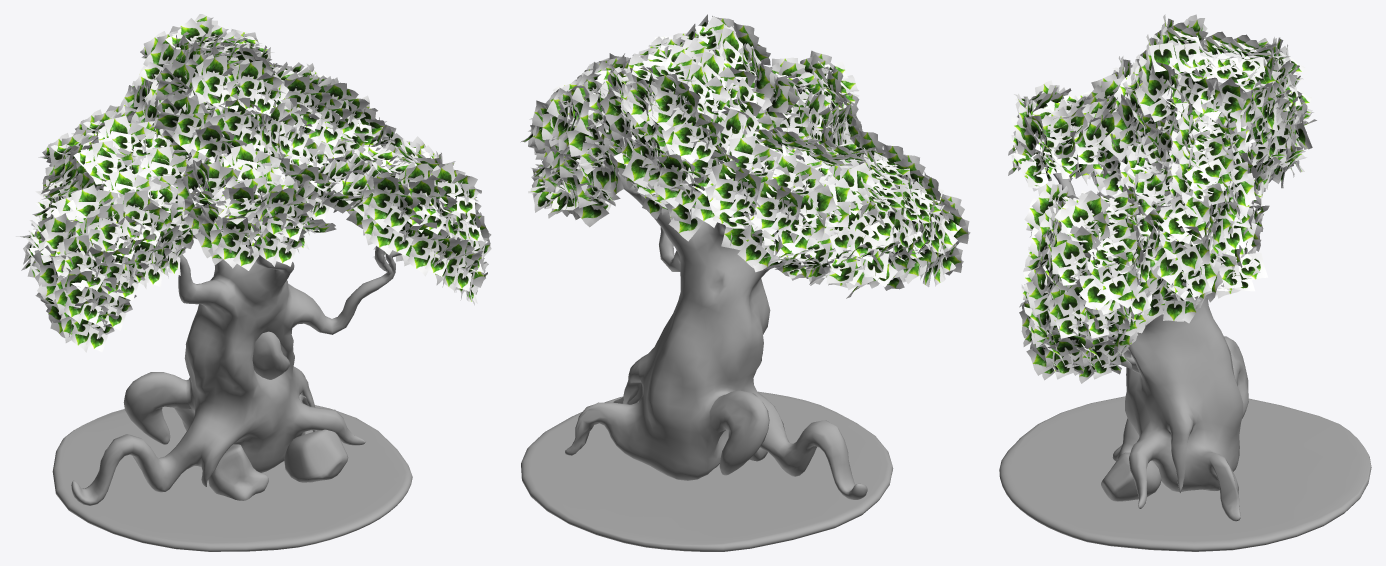
Rendered from TreeGroup_Low.fbx.
3 views of the same model, side by side, from view 1: azimuth 30°, elevation 25°; view 2: azimuth 150°, elevation 25°; view 3: azimuth 270°, elevation 25° (orthographic). The views are drawn at different scales.
Visible parts, largest first — view 1: Tree_Low1, Base_Low1, Rocks_Low3; view 2: Tree_Low1, Base_Low1, Leaf1206, Leaf1701; view 3: Base_Low1, Tree_Low1, Rocks_Low3, Leaf1133, Leaf804, Leaf801, Leaf1630, Leaf1446, Leaf2079, Leaf1486, Leaf1405, Leaf1119 (+1 smaller).
Boxes of the visible parts, <box> form: Tree_Low1: <box>71,177,401,505</box>; Base_Low1: <box>52,405,412,551</box>; Rocks_Low3: <box>208,331,348,500</box>; Tree_Low1: <box>565,172,879,499</box>; Base_Low1: <box>521,391,893,551</box>; Leaf1206: <box>622,152,652,187</box>; Leaf1701: <box>721,108,747,138</box>; Base_Low1: <box>999,396,1371,551</box>; Tree_Low1: <box>1053,170,1274,521</box>; Rocks_Low3: <box>1101,355,1161,501</box>; Leaf1133: <box>1149,42,1176,72</box>; Leaf804: <box>1152,252,1182,284</box>; Leaf801: <box>1175,245,1204,273</box>; Leaf1630: <box>1079,280,1111,310</box>; Leaf1446: <box>1056,237,1085,265</box>; Leaf2079: <box>1218,91,1246,119</box>; Leaf1486: <box>1066,201,1094,226</box>; Leaf1405: <box>1054,289,1080,316</box>; Leaf1119: <box>1174,42,1200,71</box>.
Size of the model in its own units: 4.42 by 4.38 by 3.28.
